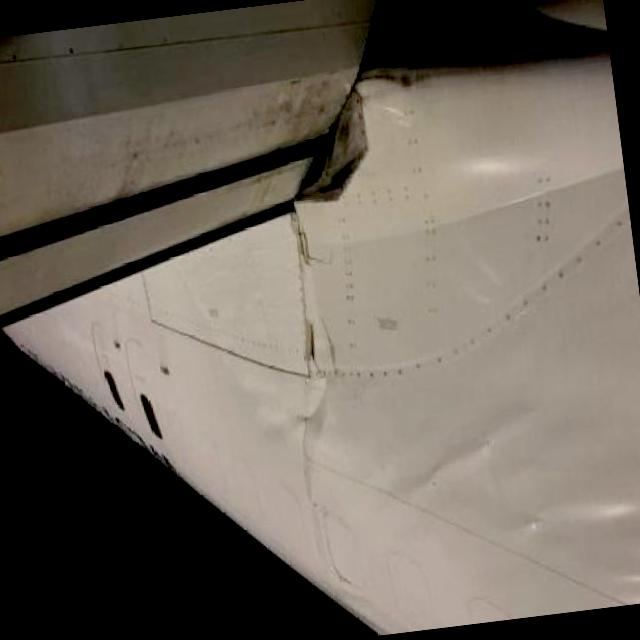dent: (381, 423, 507, 528), (260, 380, 332, 446), (545, 494, 640, 542), (602, 540, 640, 605), (460, 156, 520, 197)
